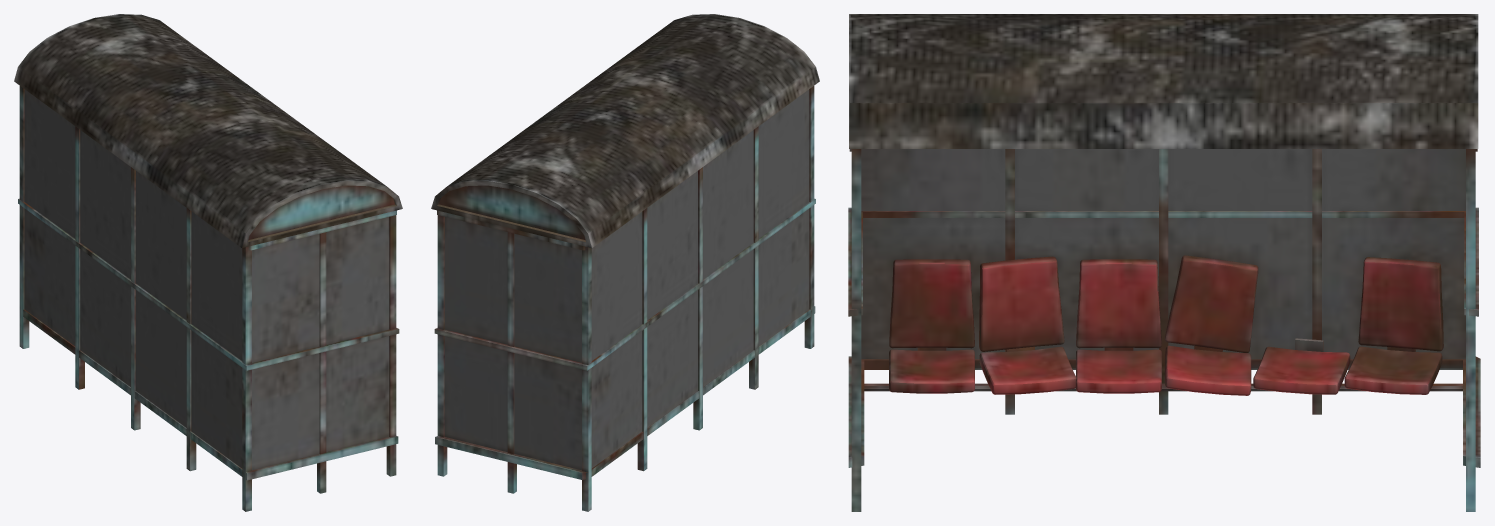
The model's file is busstop.glb.
3 views of the same model, side by side, from view 1: azimuth 30°, elevation 25°; view 2: azimuth 150°, elevation 25°; view 3: azimuth 270°, elevation 25° (orthographic). The views are drawn at different scales.
Visible parts, largest first — view 1: BusStop_low; view 2: BusStop_low; view 3: BusStop_low.
Boxes of the visible parts, x1,y1,x2,y2 form: BusStop_low: (14, 14, 402, 511); BusStop_low: (431, 14, 819, 511); BusStop_low: (848, 14, 1480, 511).
Size of the model in its own units: 1.42 by 2.6 by 3.49.
Materials: 5 (5 with a texture image).
